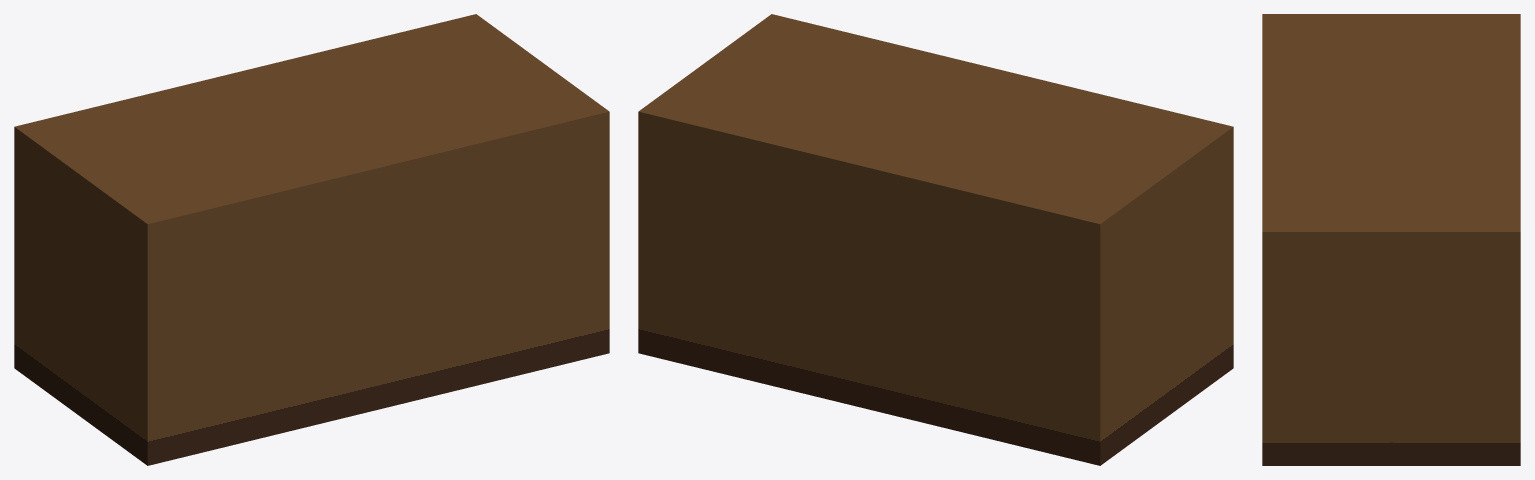
Rendered from double-low.obj.
3 views of the same model, side by side, from view 1: azimuth 30°, elevation 25°; view 2: azimuth 150°, elevation 25°; view 3: azimuth 270°, elevation 25° (orthographic). The views are drawn at different scales.
Parts seen in each view (by area): view 1: block; view 2: block; view 3: block.
Part boxes in pixels (x1,y1,x2,y2): block: (14,14,609,465); block: (638,14,1233,465); block: (1262,14,1520,465).
Bounding box in the file's own units: 4 × 2 × 2.
Materials: 1 (1 with a texture image).
